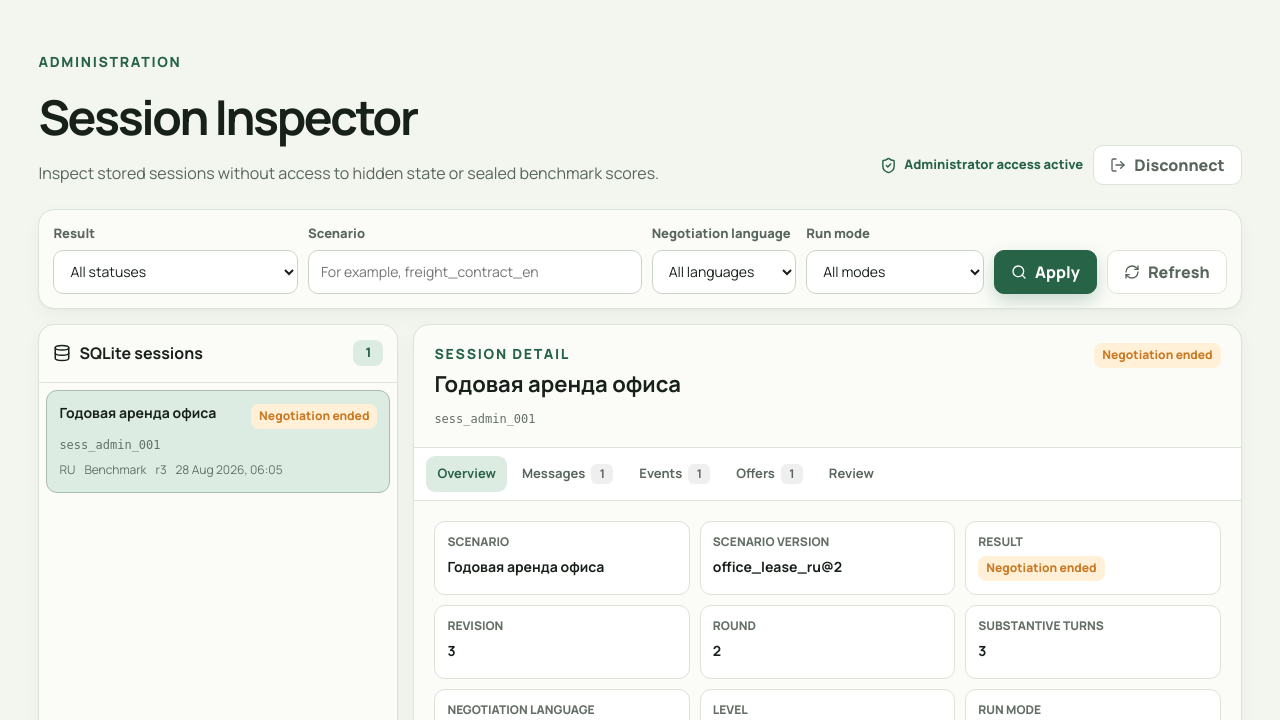
SessionInspector › shows a sealed benchmark review without review content
Expected: the text "Administrator access active" is shown, x1=880 y1=155 x2=1083 y2=175
Expected: the heading "Годовая аренда офиса" is shown, x1=434 y1=368 x2=681 y2=401
Click the tab "Review". click: [851, 474]
box: x1=818 y1=456 x2=885 y2=492
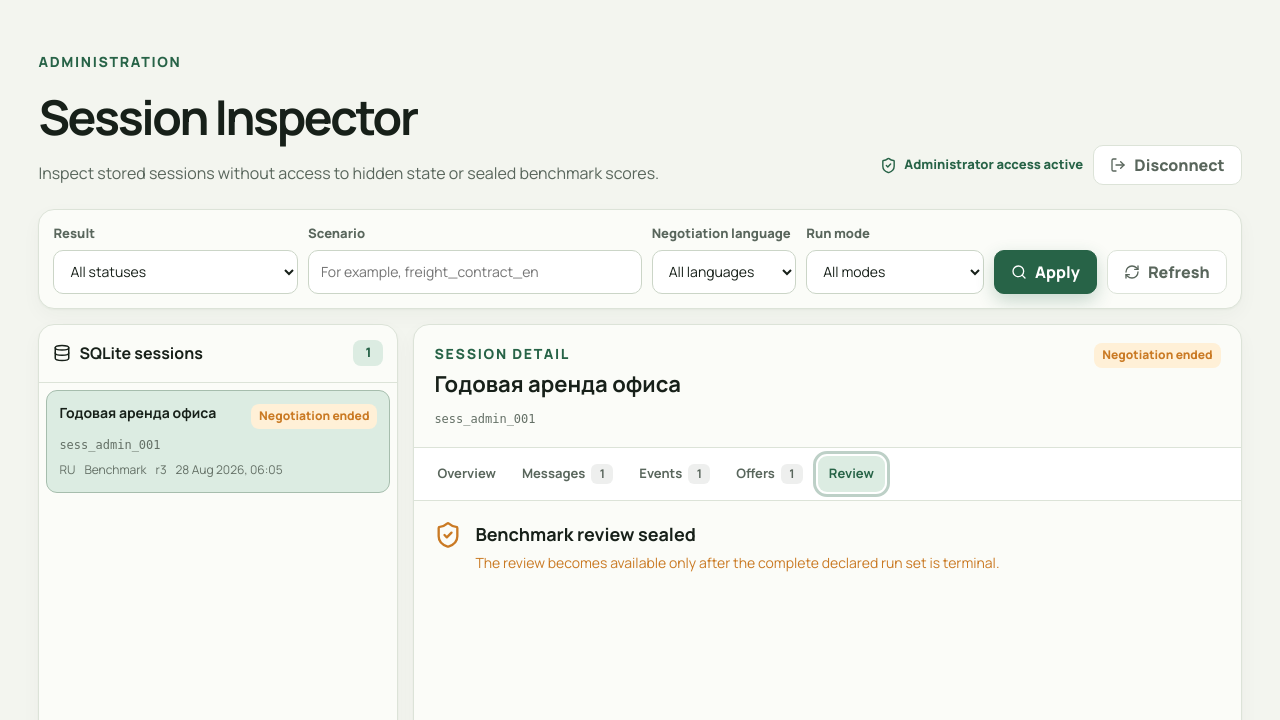
Now the heading "Benchmark review sealed" is shown, box x1=475 y1=522 x2=696 y2=546
